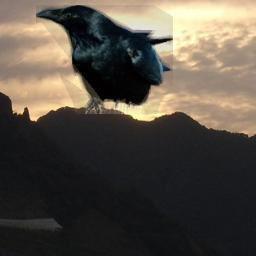Crow: (36, 5, 173, 114)
